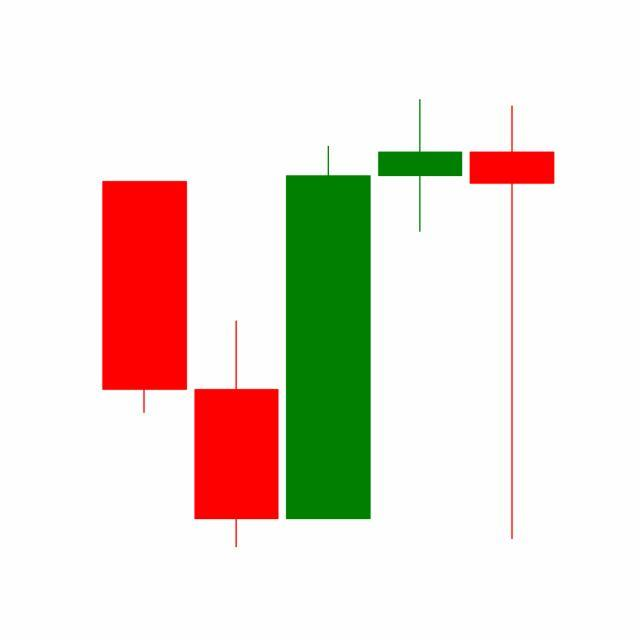Spinning Top: (374, 98, 468, 234)
